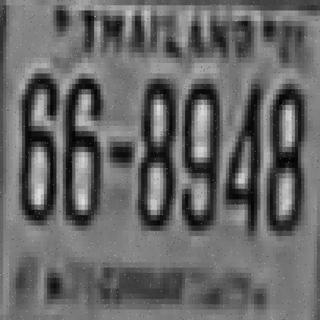N04: (222, 76, 260, 228)
N06: (61, 71, 102, 223), (16, 68, 56, 220)
N08: (264, 79, 304, 231), (135, 74, 173, 225)
N09: (179, 74, 220, 225)
